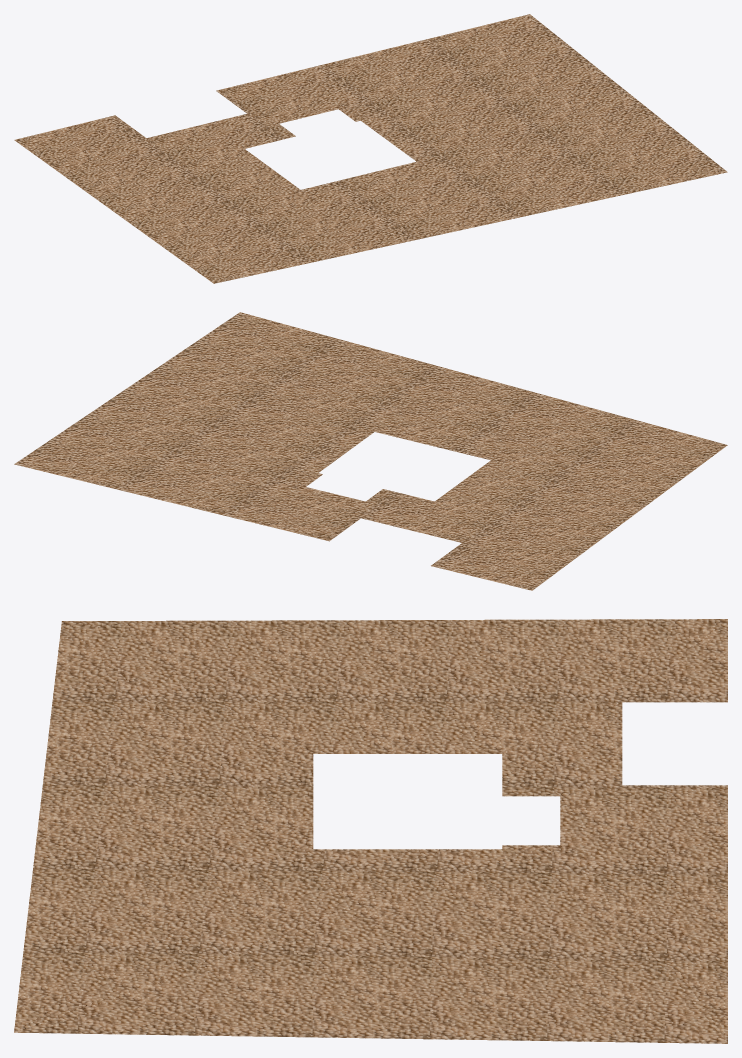
File: Carpet.fbx
3 renders of one model, top to bottom at view 1: azimuth 30°, elevation 25°; view 2: azimuth 150°, elevation 25°; view 3: azimuth 270°, elevation 25°, orthographic. The views are drawn at different scales.
Visible parts, largest first — view 1: Carpet; view 2: Carpet; view 3: Carpet.
Boxes of the visible parts, x1,y1,x2,y2 form: Carpet: (14,14,727,283); Carpet: (14,312,727,590); Carpet: (14,619,727,1043).
Bounding box in the file's own units: 8983 × 0.00104 × 6380.
